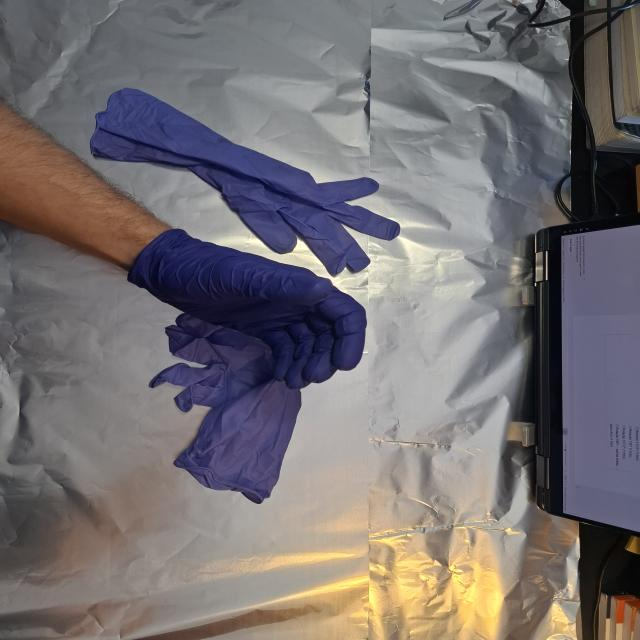glove_on: (126, 226, 370, 392)
